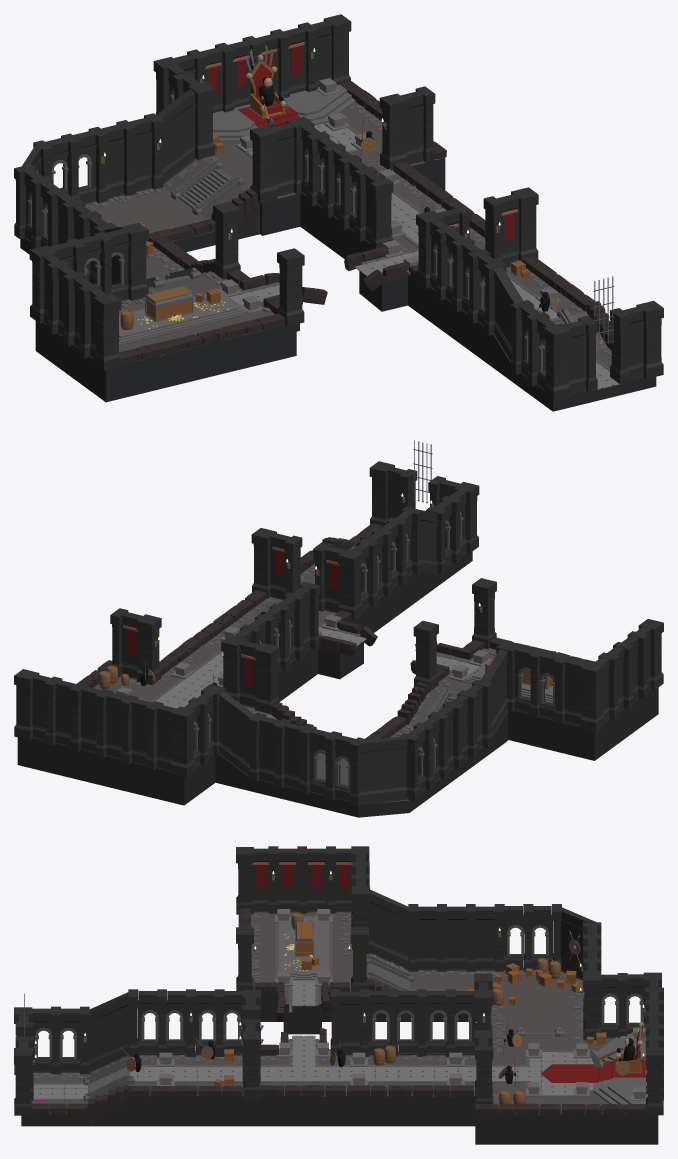
File: game-level.glb
3 renders of one model, top to bottom at view 1: azimuth 30°, elevation 25°; view 2: azimuth 150°, elevation 25°; view 3: azimuth 270°, elevation 25°, orthographic. The views are drawn at different scales.
Parts seen in each view (by area): view 1: Floor, P_Steps, Window.030, P_Treasure, Column.001, Steps.001, Floor_Stone.050, Column.025, Column.004, Column.005, Column.024, Column.012 (+56 smaller); view 2: Floor, Window.027, Window.030, Column.016, Column.026, Column.012, Column.005, Column.007, Column.022, Column.010, Column.024, Window.031 (+62 smaller); view 3: Floor, Floor_Stone.050, Window.013, Window.031, P_Treasure, P_Steps, Rug, Window.029, Window.008, Window.009, Window.042, Window.027 (+51 smaller).
Boxes of the visible parts, x1,y1,x2,y2 form: Floor: (20, 102, 656, 411); P_Steps: (213, 84, 355, 142); Window.030: (156, 89, 195, 183); P_Treasure: (119, 293, 246, 343); Column.001: (578, 308, 629, 391); Steps.001: (170, 159, 244, 215); Floor_Stone.050: (85, 105, 641, 378); Column.025: (93, 293, 121, 371); Column.004: (543, 323, 571, 401); Column.005: (510, 300, 549, 386); Column.024: (277, 248, 304, 326); Column.012: (250, 125, 277, 203); Floor: (17, 551, 658, 817); Window.027: (360, 736, 408, 804); Window.030: (218, 691, 254, 777); Column.016: (170, 706, 195, 777); Column.026: (580, 661, 605, 732); Column.012: (254, 643, 279, 714); Column.005: (426, 495, 461, 574); Column.007: (338, 549, 363, 619); Column.022: (413, 620, 438, 691); Column.010: (136, 614, 161, 685); Column.024: (472, 578, 496, 648); Window.031: (481, 649, 508, 736); Floor: (21, 912, 658, 1144); Floor_Stone.050: (34, 911, 607, 1109); Window.013: (88, 992, 129, 1072); Window.031: (368, 889, 409, 969); P_Treasure: (279, 916, 328, 980); P_Steps: (593, 1032, 646, 1104); Rug: (540, 1059, 645, 1082); Window.029: (474, 906, 495, 970); Window.008: (445, 906, 466, 970); Window.009: (417, 906, 438, 970); Window.042: (339, 991, 360, 1055); Window.027: (560, 907, 595, 980).
Bounding box in the file's own units: 51.61 × 12.24 × 67.69.
